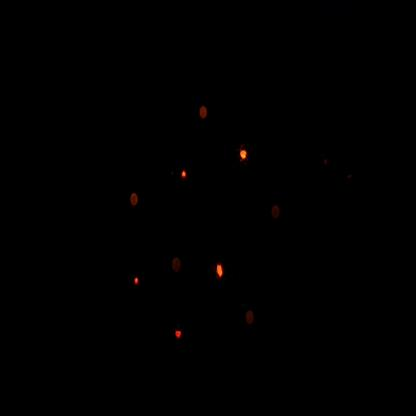PS: (241, 303, 260, 337), (168, 249, 186, 283), (194, 100, 212, 128), (268, 198, 284, 228), (127, 185, 144, 213)
PVC: (209, 245, 233, 296), (166, 313, 192, 359), (234, 133, 256, 176), (174, 160, 196, 191), (127, 266, 148, 298)
